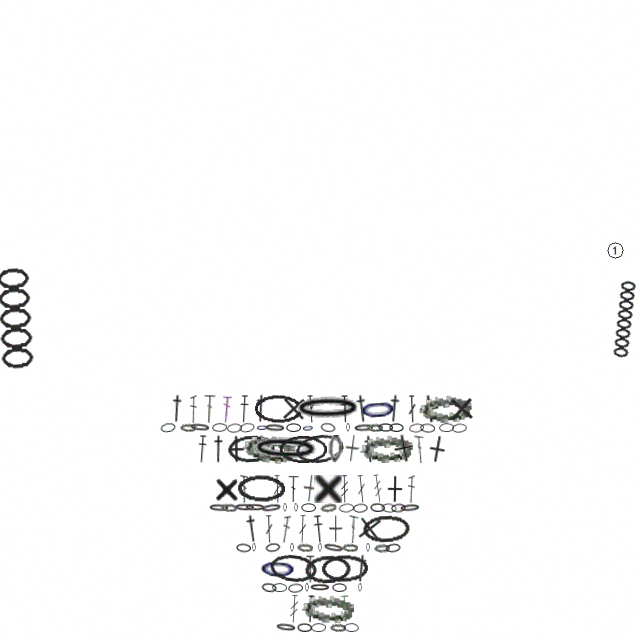chain: (250, 434, 321, 464), (293, 394, 363, 423), (294, 431, 345, 466), (242, 432, 296, 465), (268, 552, 319, 585), (360, 433, 413, 464), (419, 393, 472, 424), (302, 594, 354, 623), (362, 514, 411, 544), (227, 434, 276, 464), (304, 554, 352, 584), (321, 554, 369, 583), (237, 474, 285, 503), (254, 394, 302, 423), (279, 435, 327, 463), (358, 394, 398, 424), (258, 554, 298, 583), (328, 435, 343, 463), (322, 542, 345, 554), (260, 502, 283, 514), (275, 622, 297, 633), (189, 422, 211, 433), (208, 503, 230, 513), (399, 503, 421, 513), (264, 423, 286, 433), (353, 423, 375, 433), (309, 583, 331, 592), (234, 503, 256, 512), (244, 503, 266, 512), (320, 502, 337, 513), (261, 582, 277, 593), (265, 542, 281, 553), (160, 422, 176, 433), (239, 422, 255, 433), (320, 422, 336, 433), (374, 543, 390, 553), (385, 543, 401, 553), (381, 503, 397, 513), (288, 583, 303, 593), (236, 543, 251, 553), (339, 503, 354, 513), (353, 503, 368, 513), (391, 503, 406, 513), (227, 423, 242, 433), (409, 423, 424, 433), (420, 423, 435, 433), (452, 423, 467, 433), (330, 623, 346, 632), (297, 543, 313, 552), (342, 543, 358, 552), (221, 503, 237, 512), (180, 423, 196, 432), (367, 423, 383, 432), (297, 623, 312, 632), (311, 623, 326, 632), (344, 623, 359, 632), (272, 583, 287, 592), (332, 583, 347, 592), (301, 503, 316, 512), (370, 503, 385, 512), (212, 423, 227, 432), (286, 423, 301, 432), (378, 423, 393, 432), (389, 423, 404, 432), (439, 423, 454, 432), (302, 423, 314, 433), (256, 423, 268, 432), (305, 583, 309, 592), (358, 583, 362, 592), (252, 543, 256, 552), (290, 543, 294, 552), (318, 543, 322, 552), (366, 543, 370, 552), (283, 503, 287, 512), (294, 503, 298, 512), (346, 423, 350, 432)
double: (203, 395, 216, 423), (347, 515, 359, 543), (288, 475, 299, 503), (356, 475, 367, 503), (414, 435, 425, 463), (221, 395, 232, 423), (264, 515, 274, 543), (281, 515, 291, 543), (306, 395, 316, 423), (407, 395, 417, 423), (306, 555, 315, 583), (298, 515, 307, 543), (239, 475, 248, 503), (273, 475, 282, 503), (408, 475, 415, 503), (190, 395, 197, 423)
enseble_chain: (0, 267, 37, 372), (611, 280, 638, 360)
half_double: (352, 554, 371, 583), (385, 394, 404, 423), (243, 514, 261, 543), (168, 394, 186, 423), (252, 394, 270, 423), (353, 394, 371, 423), (210, 435, 227, 463), (361, 435, 378, 463), (312, 515, 325, 543), (196, 435, 208, 463), (238, 395, 250, 423), (339, 395, 351, 423), (305, 595, 316, 623)
noise: (605, 240, 626, 261)
single: (421, 433, 453, 465), (354, 513, 385, 544), (279, 394, 308, 423), (447, 394, 476, 423), (314, 475, 342, 503), (381, 475, 409, 503), (222, 435, 250, 463), (391, 433, 416, 464), (214, 475, 240, 503), (417, 394, 441, 424), (302, 474, 319, 503), (344, 434, 361, 463), (329, 515, 343, 543)
treble: (372, 474, 384, 503), (289, 595, 299, 623), (340, 595, 350, 623), (340, 475, 349, 503)
